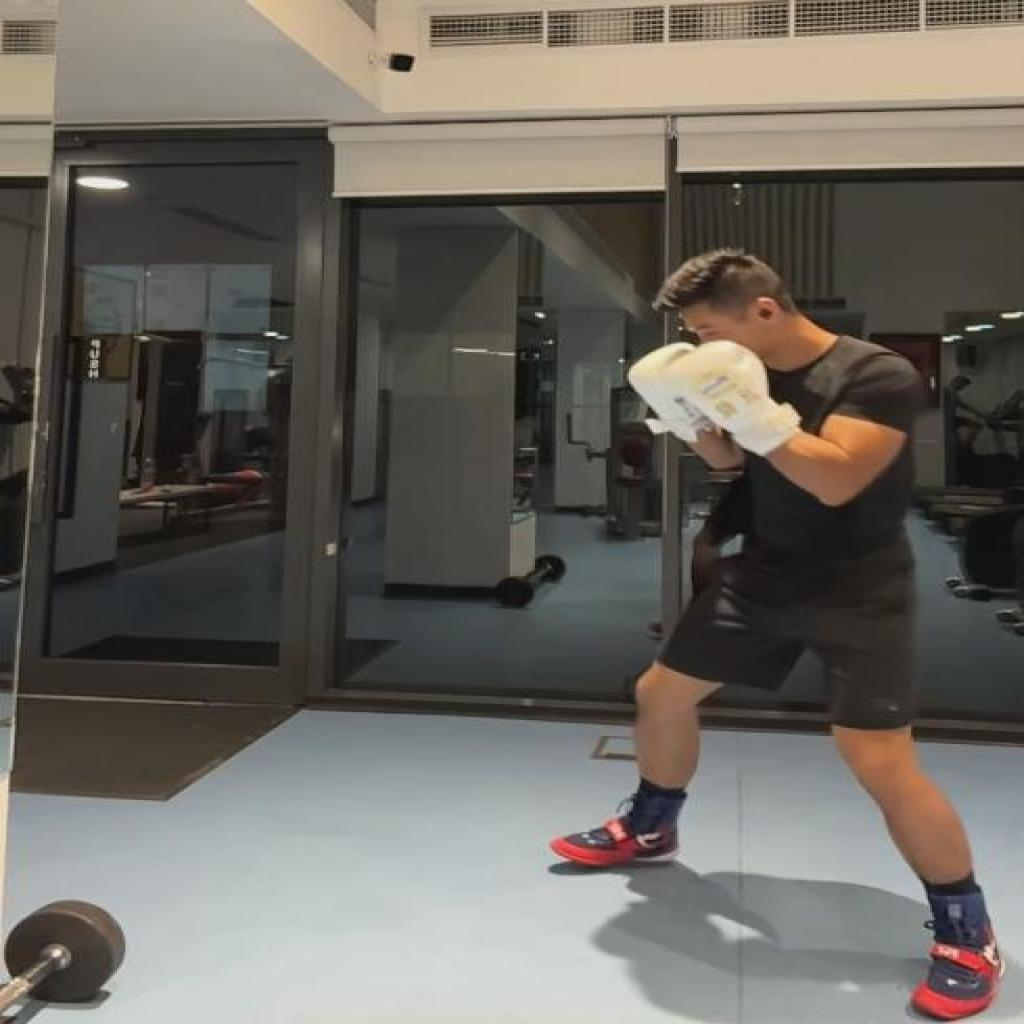no punch: (548, 246, 1010, 1024)
